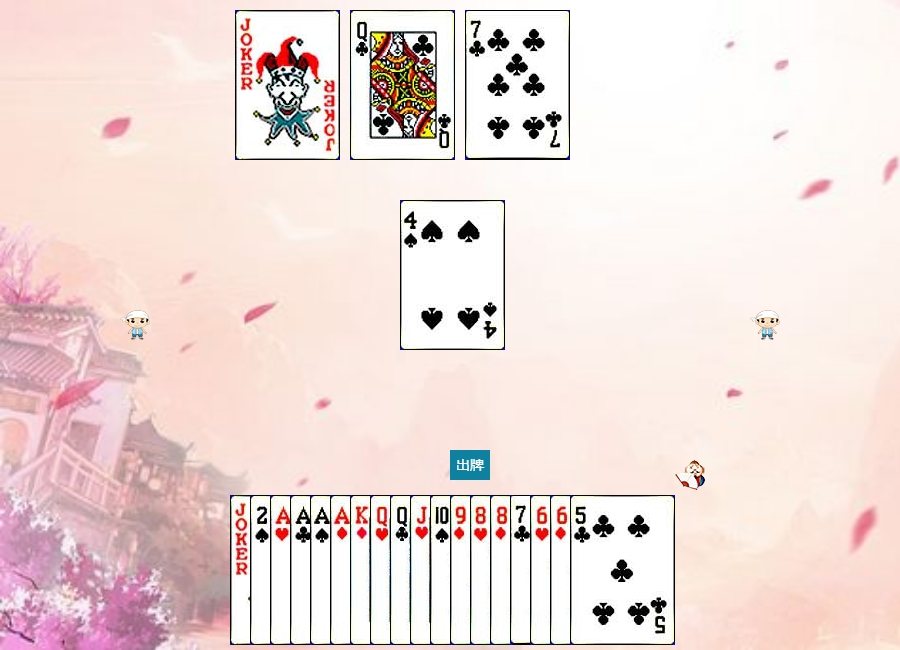10~4: (430, 495, 535, 645)
11~3: (410, 495, 515, 645)
12~2: (350, 10, 455, 160), (390, 495, 495, 645)
12~3: (370, 495, 475, 645)
13~1: (350, 495, 455, 645)
14~1: (330, 495, 435, 645)
14~2: (290, 495, 395, 645)
14~3: (270, 495, 375, 645)
14~4: (310, 495, 415, 645)
15~4: (250, 495, 355, 645)
18~4: (235, 10, 340, 160), (230, 495, 335, 645)
4~4: (400, 200, 505, 350)
5~2: (570, 495, 675, 645)
6~1: (550, 495, 655, 645)
6~3: (530, 495, 635, 645)
7~2: (465, 10, 570, 160), (510, 495, 615, 645)
8~1: (490, 495, 595, 645)
8~3: (470, 495, 575, 645)
9~1: (450, 495, 555, 645)
